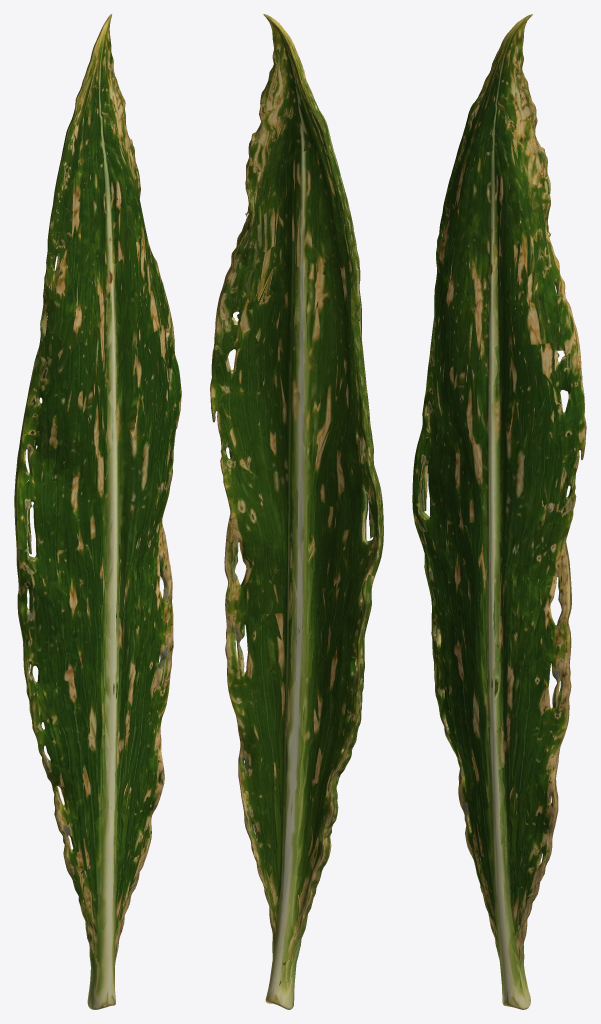
The model's file is corn_common_rust.glb.
3 renders of one model, left to right at view 1: azimuth 30°, elevation 25°; view 2: azimuth 150°, elevation 25°; view 3: azimuth 330°, elevation 25°, orthographic.
Parts seen in each view (by area): view 1: corn_common_rust; view 2: corn_common_rust; view 3: corn_common_rust.
Boxes of the visible parts, bbox=[...] form: corn_common_rust: bbox=[14, 14, 181, 1009]; corn_common_rust: bbox=[210, 14, 383, 1009]; corn_common_rust: bbox=[412, 14, 586, 1009].
Size of the model in its own units: 0.1777 by 1 by 0.053.
1 material, 1 textured.
